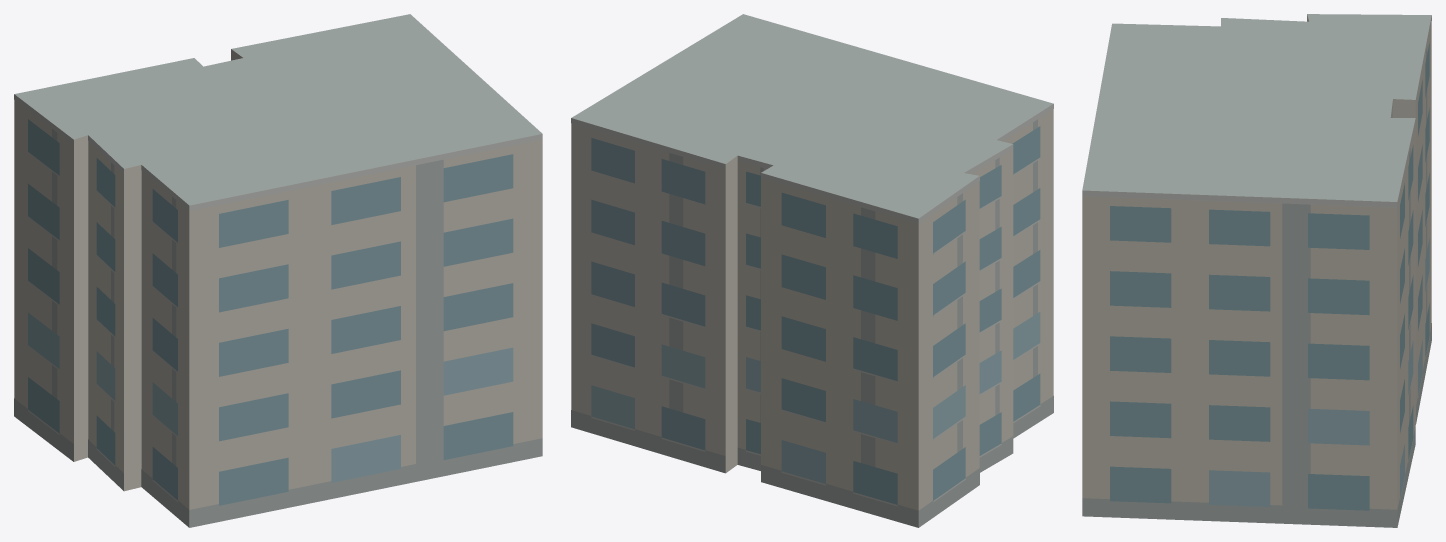
The model's file is survey-upis-32566818.glb.
3 renders of one model, left to right at view 1: azimuth 30°, elevation 25°; view 2: azimuth 150°, elevation 25°; view 3: azimuth 270°, elevation 25°, orthographic. The views are drawn at different scales.
Visible parts, largest first — view 1: survey-upis-32566818.tmp; view 2: survey-upis-32566818.tmp; view 3: survey-upis-32566818.tmp.
Part boxes in pixels (box(x1,y1,x2,y2)): survey-upis-32566818.tmp: box(14, 14, 542, 527); survey-upis-32566818.tmp: box(571, 14, 1053, 527); survey-upis-32566818.tmp: box(1082, 14, 1431, 527).
Size of the model in its own units: 17.24 by 13.92 by 13.54.
